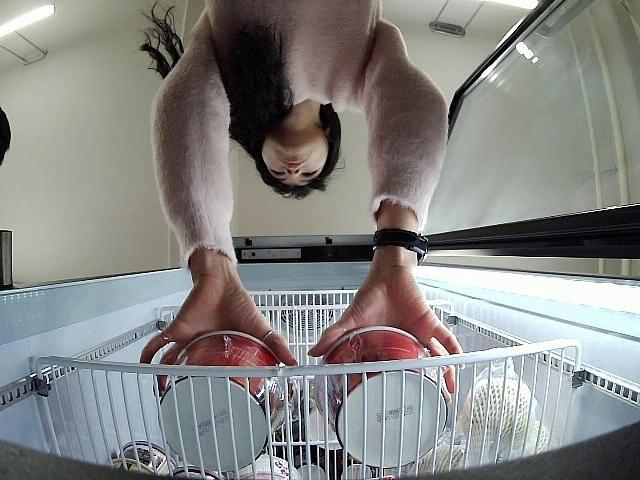01_ShinRamen_L: (316, 327, 452, 469), (158, 332, 286, 472)
